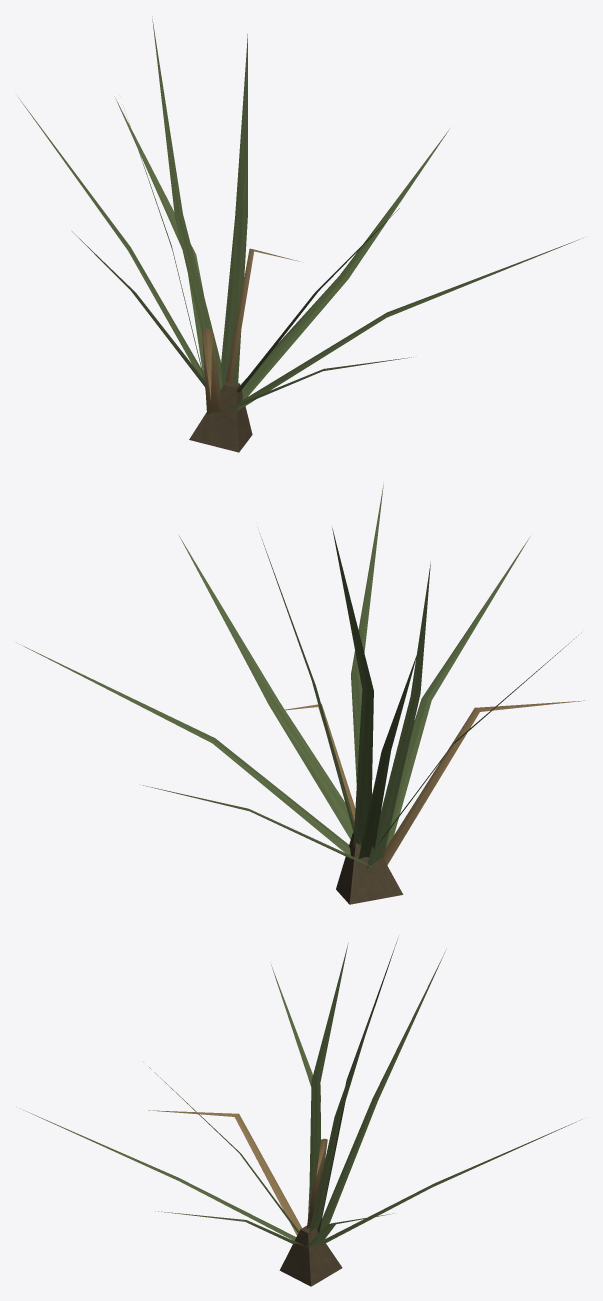
The model's file is SM_CN_Yucca_B_LOD2.fbx.
3 renders of one model, top to bottom at view 1: azimuth 30°, elevation 25°; view 2: azimuth 150°, elevation 25°; view 3: azimuth 270°, elevation 25°, orthographic. The views are drawn at different scales.
Visible parts, largest first — view 1: SM_CN_Yucca_B_LOD2; view 2: SM_CN_Yucca_B_LOD2; view 3: SM_CN_Yucca_B_LOD2.
Part boxes in pixels (x1,y1,x2,y2): SM_CN_Yucca_B_LOD2: (18, 16, 581, 452); SM_CN_Yucca_B_LOD2: (16, 482, 584, 904); SM_CN_Yucca_B_LOD2: (19, 939, 581, 1286).
Size of the model in its own units: 1.29 by 1.64 by 1.05.
